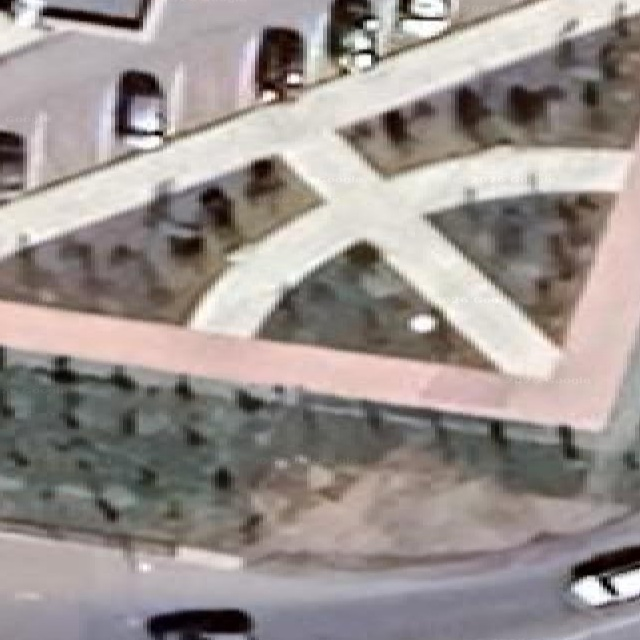car: (568, 547, 639, 607), (116, 71, 164, 148), (144, 608, 256, 639), (256, 27, 303, 98), (572, 566, 639, 606), (337, 16, 377, 71), (123, 95, 163, 148), (400, 0, 447, 36), (0, 131, 24, 200), (160, 220, 204, 256), (261, 68, 303, 101), (342, 32, 375, 70), (0, 161, 23, 200), (12, 0, 44, 27), (403, 0, 448, 19), (407, 312, 437, 332), (260, 79, 280, 101), (284, 70, 303, 92), (359, 15, 379, 35), (0, 0, 12, 23)
